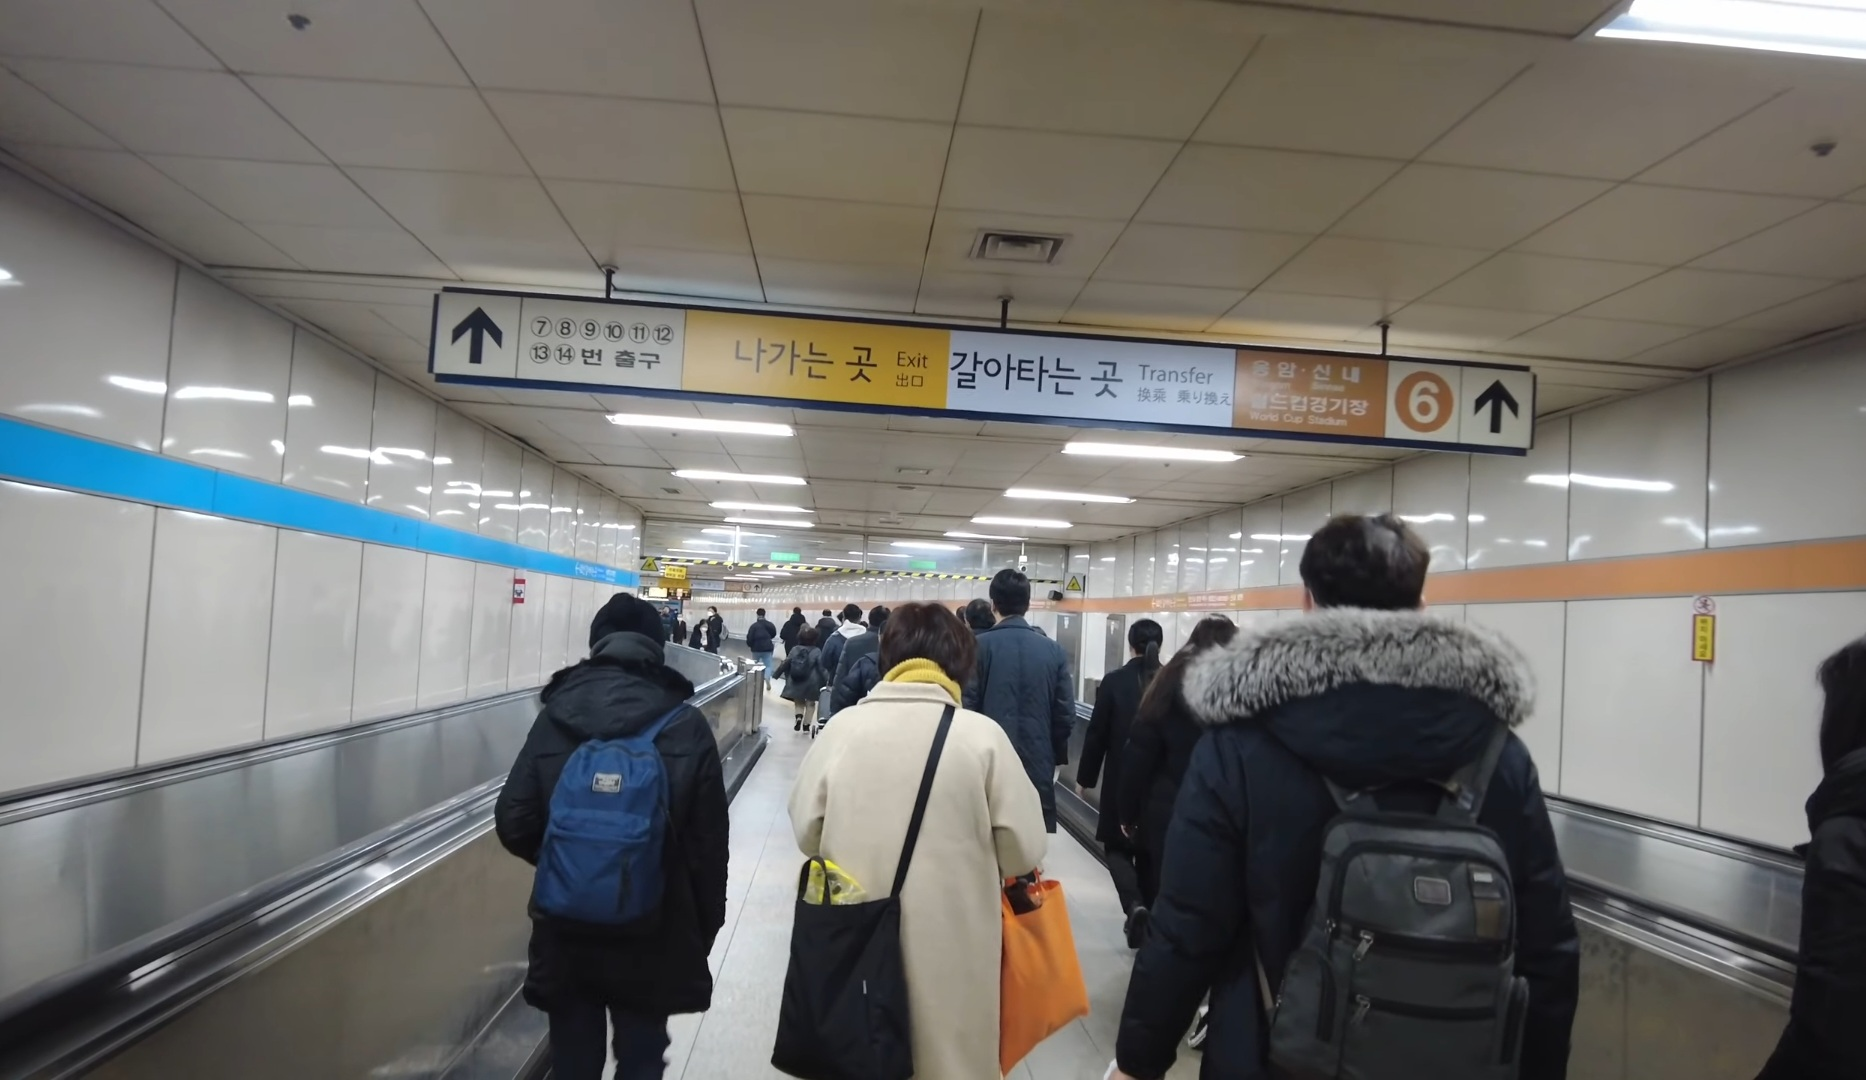signBoard: (418, 276, 1540, 471)
